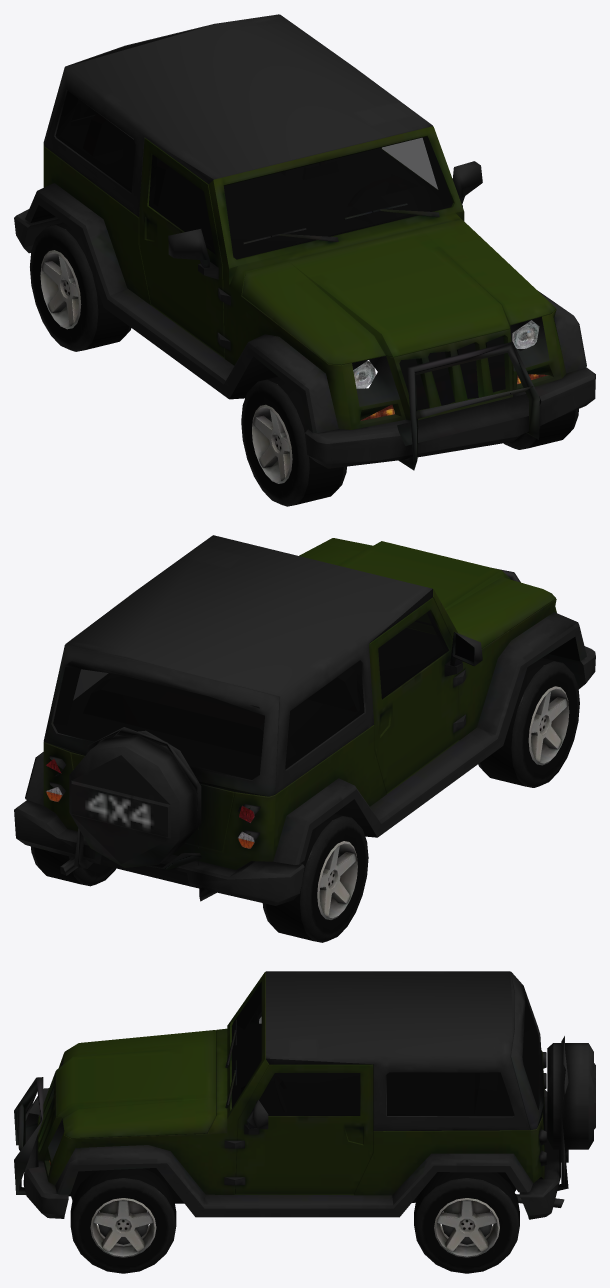
File: offroad_lo.glb
3 views of the same model, one above another, from view 1: azimuth 30°, elevation 25°; view 2: azimuth 150°, elevation 25°; view 3: azimuth 270°, elevation 25° (orthographic). The views are drawn at different scales.
Visible parts, largest first — view 1: body, wheel_fr, wheel_rr, wheel_fl; view 2: body, wheel_fr, wheel_rr, wheel_rl; view 3: body, wheel_fl, wheel_rl.
Part boxes in pixels (x1,y1,x2,y2): body: [14, 14, 595, 470]; wheel_fr: [241, 376, 346, 506]; wheel_rr: [30, 222, 131, 351]; wheel_fl: [504, 342, 578, 449]; body: [14, 535, 595, 905]; wheel_fr: [478, 658, 579, 787]; wheel_rr: [262, 813, 368, 942]; wheel_rl: [31, 846, 116, 886]; body: [14, 971, 595, 1219]; wheel_fl: [70, 1168, 176, 1273]; wheel_rl: [414, 1172, 519, 1273].
Size of the model in its own units: 2.14 by 1.71 by 4.29.
Materials: 4 (3 with a texture image).
